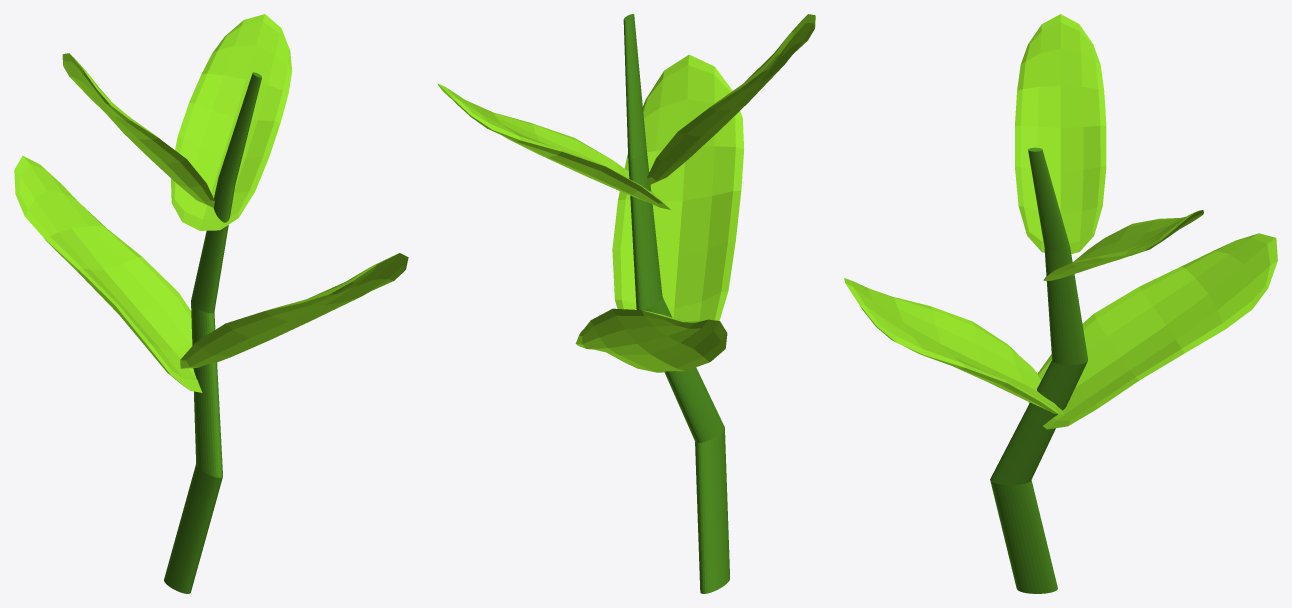
File: puera javanica2 .fbx
3 views of the same model, side by side, from view 1: azimuth 30°, elevation 25°; view 2: azimuth 150°, elevation 25°; view 3: azimuth 270°, elevation 25° (orthographic). The views are drawn at different scales.
Parts seen in each view (by area): view 1: Cube.004; view 2: Cube.004; view 3: Cube.004.
Part boxes in pixels (<box>): Cube.004: <box>14,14,408,593</box>; Cube.004: <box>437,14,815,593</box>; Cube.004: <box>844,14,1277,593</box>.
Bounding box in the file's own units: 20.26 × 38.96 × 28.86.
